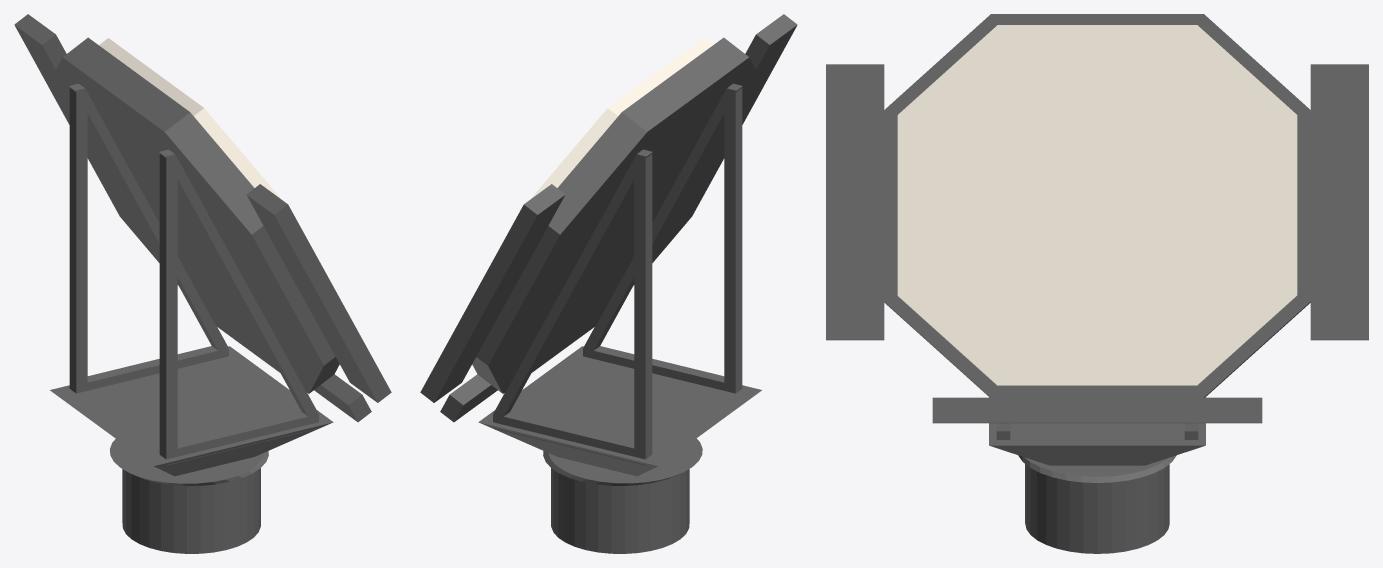
File: ops_24b.obj
3 renders of one model, left to right at view 1: azimuth 30°, elevation 25°; view 2: azimuth 150°, elevation 25°; view 3: azimuth 270°, elevation 25°, orthographic. The views are drawn at different scales.
Visible parts, largest first — view 1: ops_24b; view 2: ops_24b; view 3: ops_24b.
Part boxes in pixels (x1,y1,x2,y2): ops_24b: [14, 14, 391, 553]; ops_24b: [420, 14, 797, 553]; ops_24b: [826, 14, 1368, 553].
Bounding box in the file's own units: 1.4 × 3.23 × 3.29.
